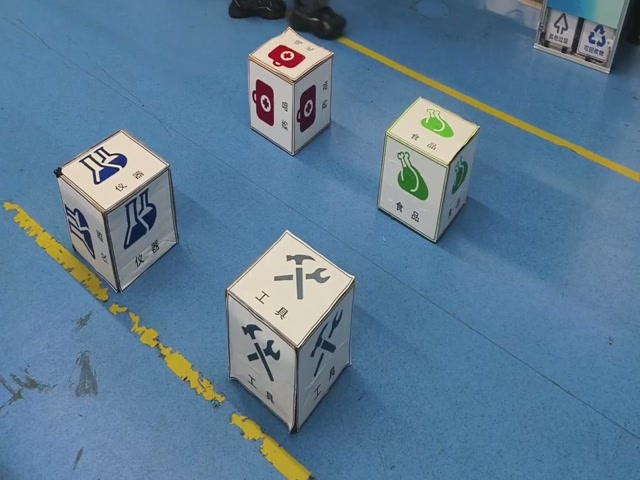Cube_food: (385, 104, 478, 167)
Cube_ins: (52, 128, 172, 215)
Cube_medicine: (249, 33, 334, 84)
Cube_tool: (222, 225, 357, 352)
